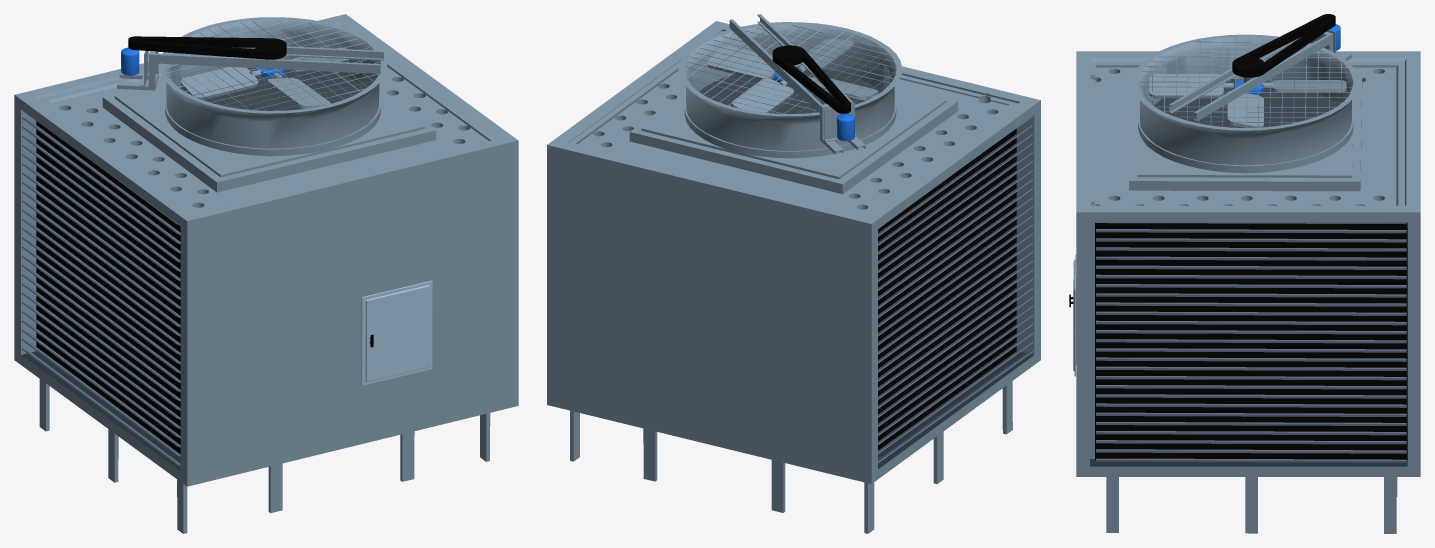
The model's file is 冷却塔.glb.
3 views of the same model, side by side, from view 1: azimuth 30°, elevation 25°; view 2: azimuth 150°, elevation 25°; view 3: azimuth 270°, elevation 25° (orthographic). The views are drawn at different scales.
Visible parts, largest first — view 1: 立方体.094, 其他-2.163, 立方体.102, 柱体.166, 立方体.096, 立方体.095, 其他-2.151, 柱体.163, 其他-2.156, 柱体.167, 其他-2.142, 其他-2.149 (+2 smaller); view 2: 立方体.094, 其他-2.163, 立方体.102, 柱体.166, 立方体.096, 柱体.163, 其他-2.156, 其他-2.151, 柱体.167, 其他-2.142, 其他-2.159, 其他-2.150; view 3: 其他-2.162, 立方体.094, 立方体.097, 柱体.166, 立方体.096, 其他-2.156, 柱体.163, 柱体.167, 其他-2.142, 其他-2.151, 其他-2.158, 其他-2.150 (+2 smaller).
Boxes of the visible parts, x1,y1,x2,y2 form: 立方体.094: [14, 14, 518, 486]; 其他-2.163: [36, 121, 180, 454]; 立方体.102: [21, 117, 180, 466]; 柱体.166: [159, 17, 387, 156]; 立方体.096: [102, 82, 436, 192]; 立方体.095: [361, 280, 432, 385]; 其他-2.151: [39, 379, 490, 533]; 柱体.163: [180, 28, 349, 108]; 其他-2.156: [163, 20, 378, 110]; 柱体.167: [180, 67, 365, 110]; 其他-2.142: [128, 36, 286, 59]; 其他-2.149: [155, 53, 380, 73]; 立方体.094: [547, 21, 1040, 483]; 其他-2.163: [878, 128, 1016, 450]; 立方体.102: [878, 116, 1033, 463]; 柱体.166: [678, 22, 901, 158]; 立方体.096: [629, 86, 957, 194]; 柱体.163: [707, 39, 878, 112]; 其他-2.156: [685, 25, 896, 114]; 其他-2.151: [570, 381, 1012, 533]; 柱体.167: [699, 69, 880, 113]; 其他-2.142: [772, 45, 850, 113]; 其他-2.159: [878, 352, 1033, 469]; 其他-2.150: [729, 19, 822, 113]; 其他-2.162: [1095, 222, 1407, 460]; 立方体.094: [1076, 51, 1420, 476]; 立方体.097: [1096, 220, 1406, 462]; 柱体.166: [1131, 34, 1359, 173]; 立方体.096: [1129, 74, 1362, 191]; 其他-2.156: [1140, 36, 1352, 127]; 柱体.163: [1149, 43, 1346, 127]; 柱体.167: [1154, 81, 1337, 127]; 其他-2.142: [1232, 14, 1335, 77]; 其他-2.151: [1106, 477, 1397, 533]; 其他-2.158: [1089, 459, 1407, 466]; 其他-2.150: [1194, 35, 1329, 121].
Bounding box in the file's own units: 73.47 × 83.94 × 67.2.
